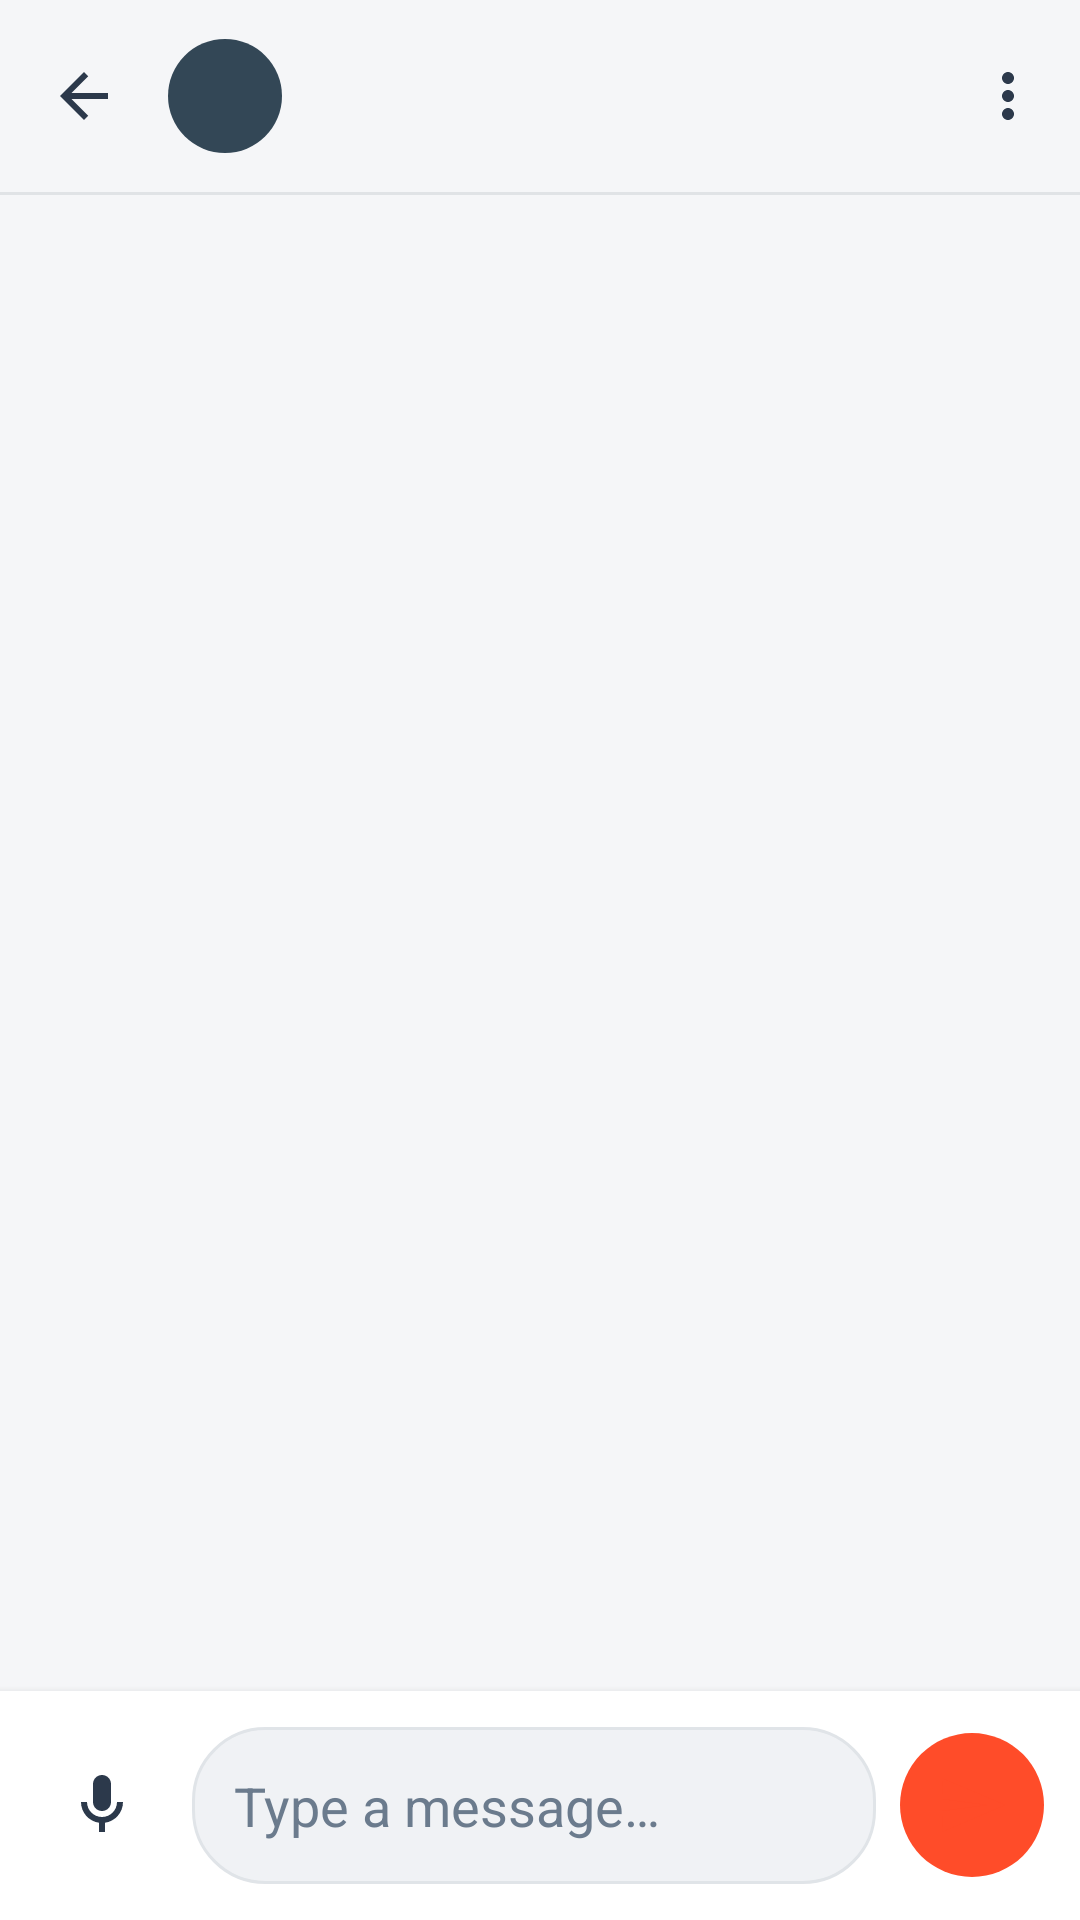

Point at icon controls on the screen. Image size 1080px×1920px, points as (x,y).
More options: (1008,96)
Voice input: (102,1803)
